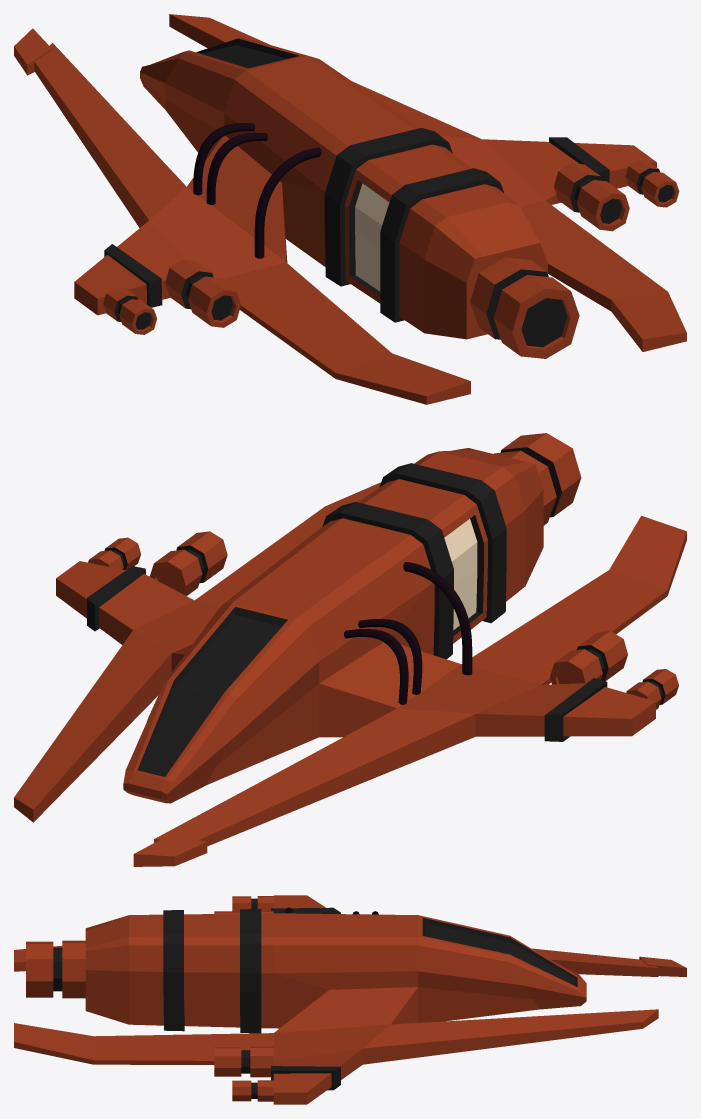
File: Statek_Kosmiczny_czesci.fbx
3 views of the same model, one above another, from view 1: azimuth 30°, elevation 25°; view 2: azimuth 150°, elevation 25°; view 3: azimuth 270°, elevation 25° (orthographic). The views are drawn at different scales.
Visible parts, largest first — view 1: Cube.062, Cube.063, Cube.058, Cube.060, Cube.061, Cube.050, Circle.000, Circle.003, Circle.001, Cube.064; view 2: Cube.062, Cube.063, Cube.060, Cube.058, Cube.064, Circle.000, Cube.050, Cube.061, Circle.001, Circle.003; view 3: Cube.062, Cube.063, Cube.060, Cube.061, Cube.064, Cube.050.
Part boxes in pixels (left/top/right/bottom): Cube.062: left=34, top=14, right=686, bottom=404; Cube.063: left=470, top=257, right=579, bottom=358; Cube.058: left=165, top=259, right=240, bottom=327; Cube.060: left=554, top=163, right=629, bottom=231; Cube.061: left=625, top=160, right=679, bottom=207; Cube.050: left=103, top=287, right=156, bottom=334; Circle.000: left=254, top=147, right=321, bottom=258; Circle.003: left=193, top=123, right=254, bottom=195; Circle.001: left=206, top=132, right=267, bottom=204; Cube.064: left=14, top=28, right=52, bottom=75; Cube.062: left=14, top=448, right=686, bottom=846; Cube.063: left=494, top=433, right=581, bottom=525; Cube.060: left=149, top=531, right=227, bottom=595; Cube.058: left=550, top=631, right=627, bottom=684; Cube.064: left=133, top=835, right=207, bottom=866; Circle.000: left=403, top=562, right=472, bottom=675; Cube.050: left=626, top=669, right=678, bottom=709; Cube.061: left=88, top=537, right=140, bottom=569; Circle.001: left=358, top=619, right=422, bottom=694; Circle.003: left=344, top=629, right=408, bottom=704; Cube.062: left=14, top=895, right=658, bottom=1104; Cube.063: left=26, top=940, right=85, bottom=998; Cube.060: left=214, top=1046, right=273, bottom=1077; Cube.061: left=232, top=1080, right=273, bottom=1101; Cube.064: left=639, top=956, right=686, bottom=976; Cube.050: left=232, top=896, right=273, bottom=911.
Size of the model in its own units: 4006 by 862 by 5775.
